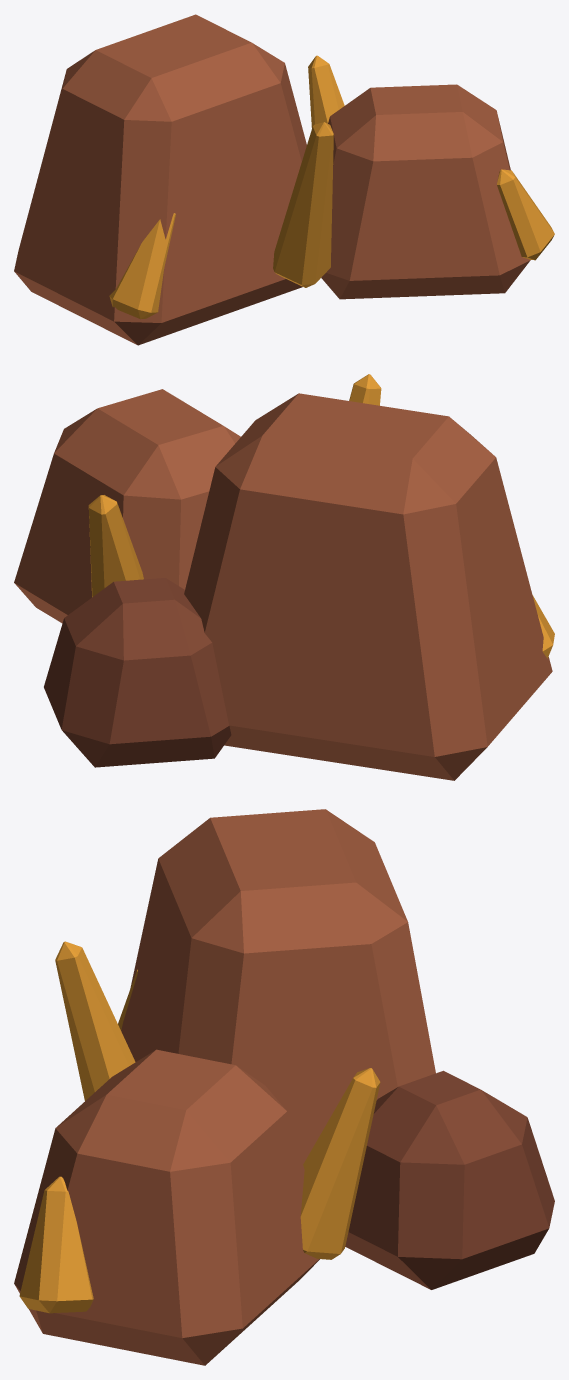
File: ab_ore_outcrop_c.glb
The picture shows the model from 3 angles, top to bottom: view 1: azimuth 30°, elevation 25°; view 2: azimuth 150°, elevation 25°; view 3: azimuth 270°, elevation 25°; orthographic projection. The views are drawn at different scales.
Visible parts, largest first — view 1: ab_ore_outcrop_c; view 2: ab_ore_outcrop_c; view 3: ab_ore_outcrop_c.
Part boxes in pixels (x1=…): ab_ore_outcrop_c: x1=14, y1=14, x2=554, y2=345; ab_ore_outcrop_c: x1=14, y1=374, x2=554, y2=780; ab_ore_outcrop_c: x1=14, y1=809, x2=554, y2=1365.
Size of the model in its own units: 1.54 by 0.8 by 1.21.
